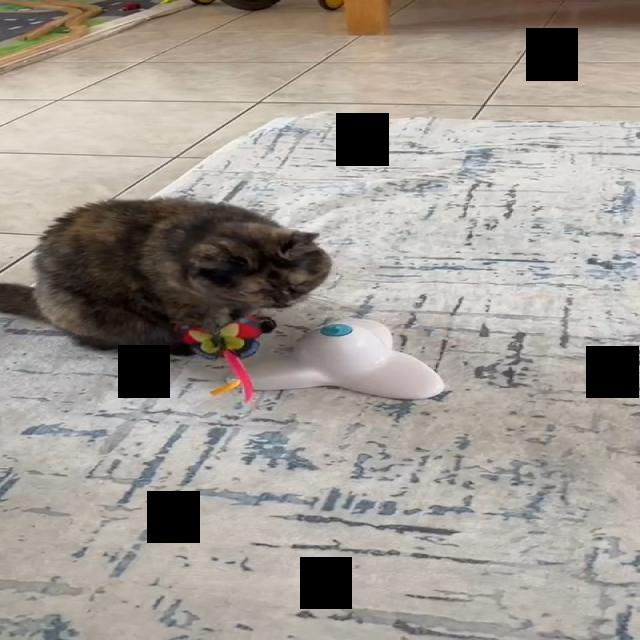authorized: (0, 196, 332, 356)
